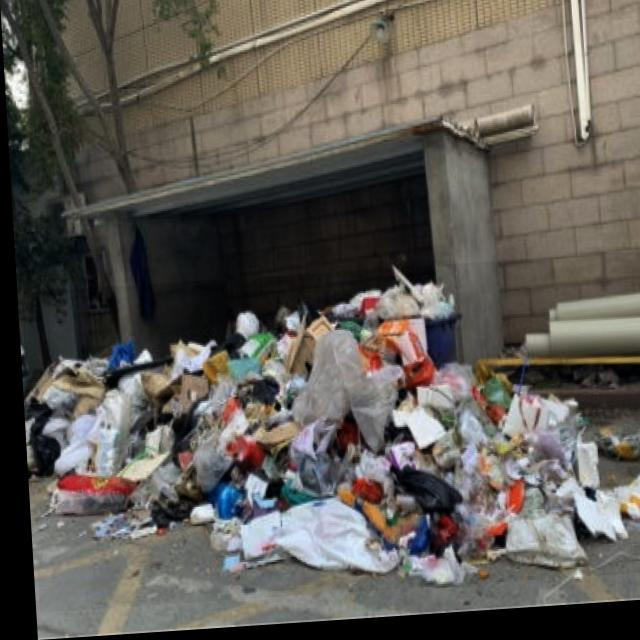garbage: (18, 260, 640, 613)
